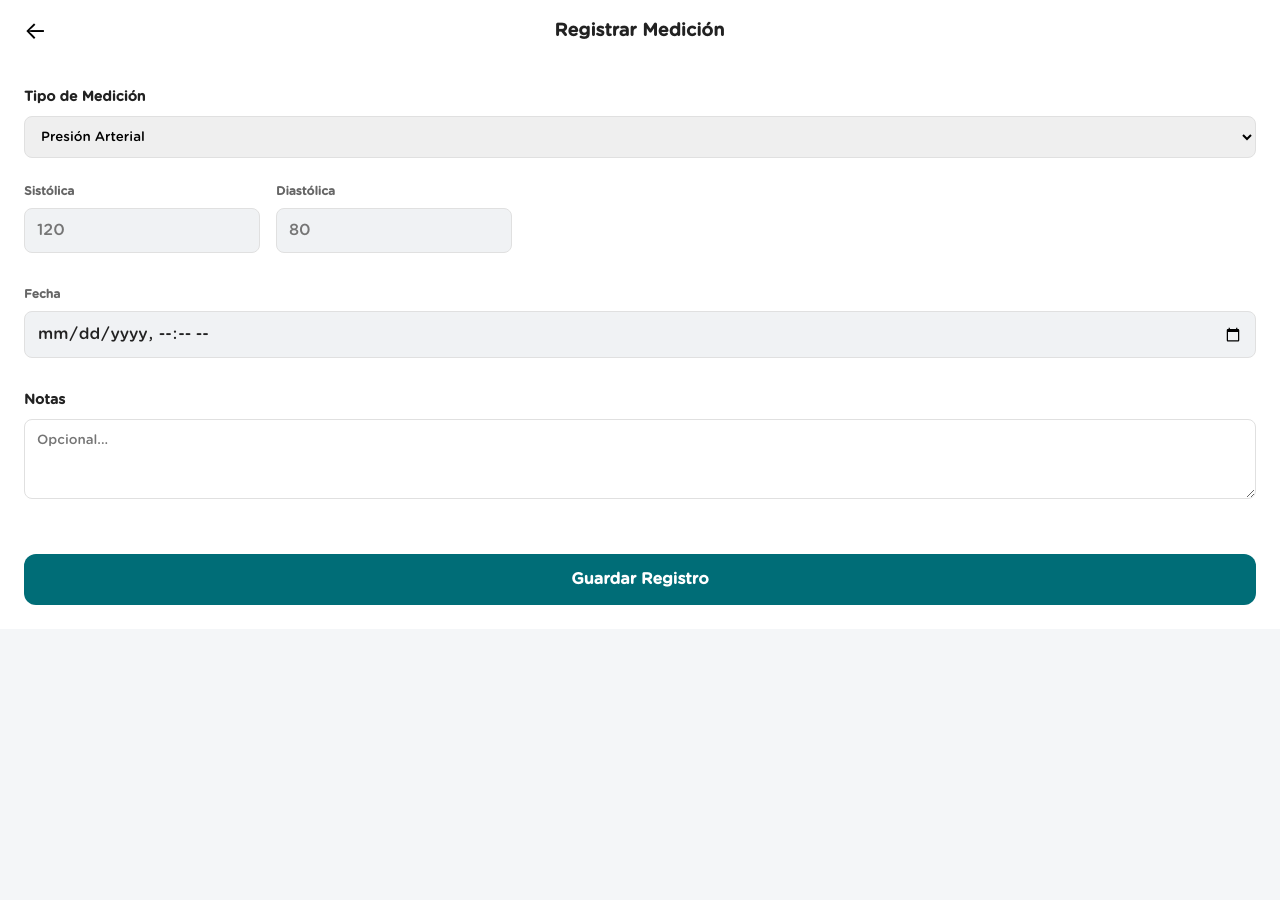
Test: LogVital Component › changes inputs when type changes
Select "Peso" in the dropdown: [640, 137] box 24,116 -> 1256,158
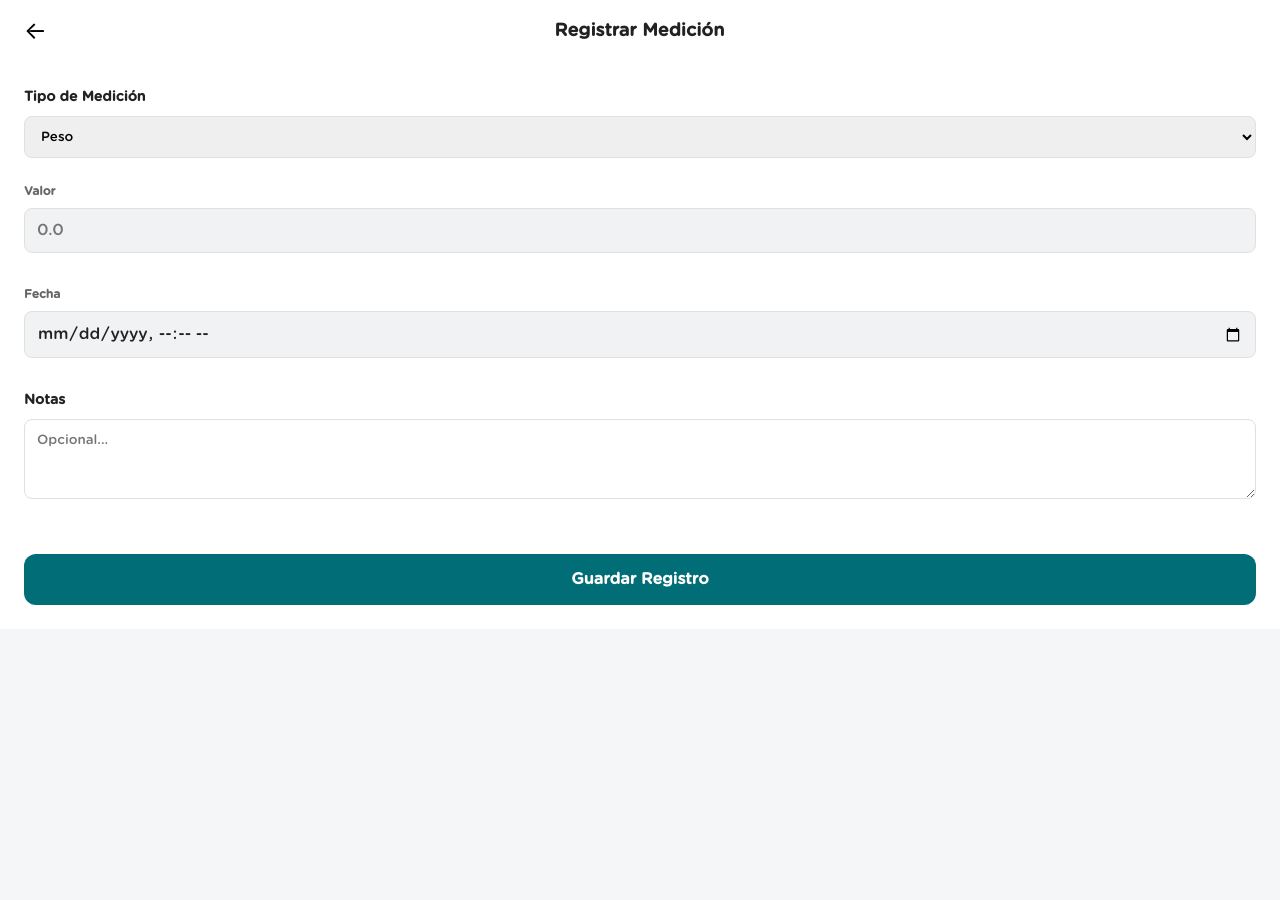
Expected: the text "Sistólica" is gone
Expected: the text "Valor" is shown, 24,185 -> 56,197
